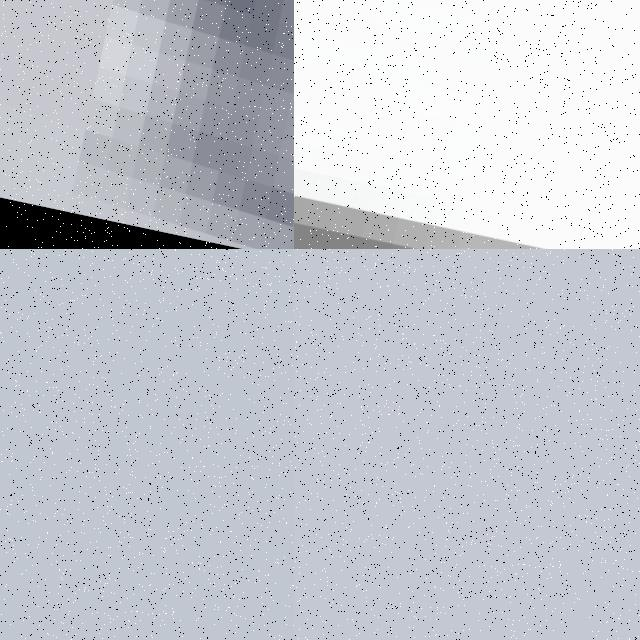drone: (0, 0, 294, 249)
